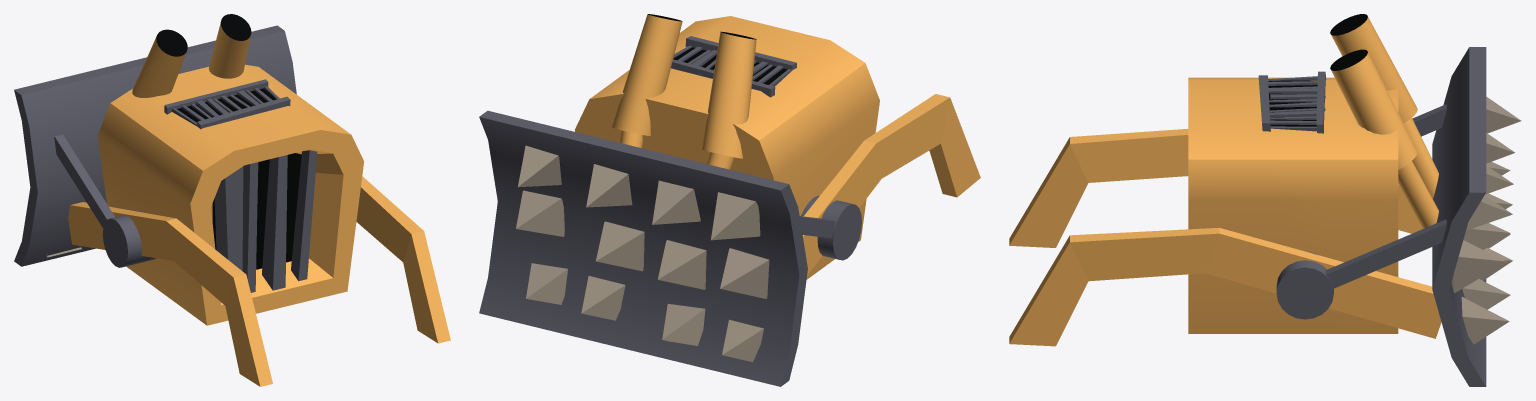
File: SM_BoatRam_V2_001.fbx
The picture shows the model from 3 angles, left to right: view 1: azimuth 30°, elevation 25°; view 2: azimuth 150°, elevation 25°; view 3: azimuth 270°, elevation 25°; orthographic projection. The views are drawn at different scales.
Visible parts, largest first — view 1: SM_BoatRam_V2; view 2: SM_BoatRam_V2; view 3: SM_BoatRam_V2.
Part boxes in pixels (box(x1,y1,x2,y2)): SM_BoatRam_V2: box(14, 14, 450, 386); SM_BoatRam_V2: box(479, 14, 980, 386); SM_BoatRam_V2: box(1009, 14, 1521, 386).
Size of the model in its own units: 147 by 131 by 218.
